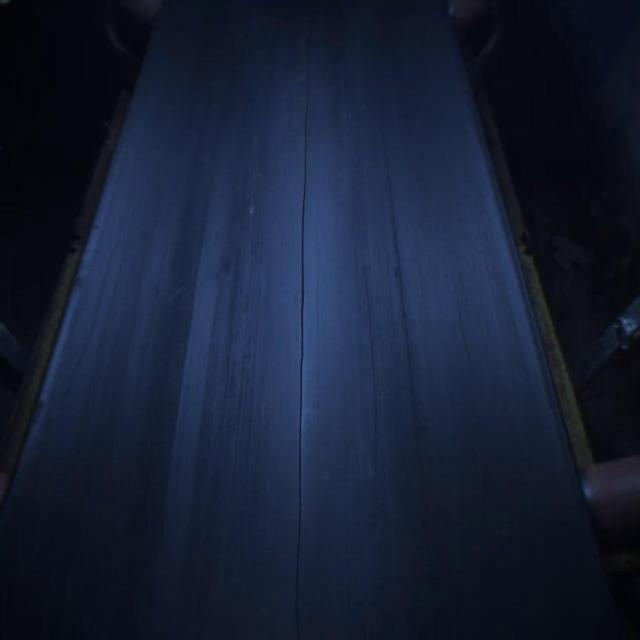Tear: (282, 41, 317, 640)
